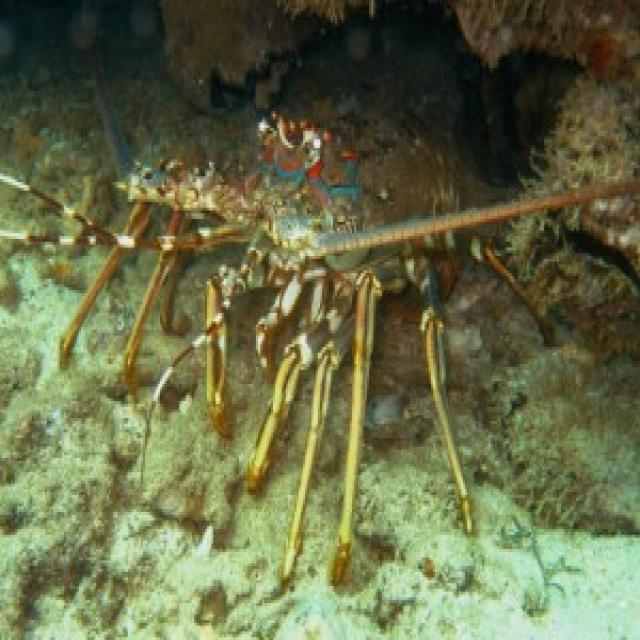lobsters: (68, 16, 564, 540)
